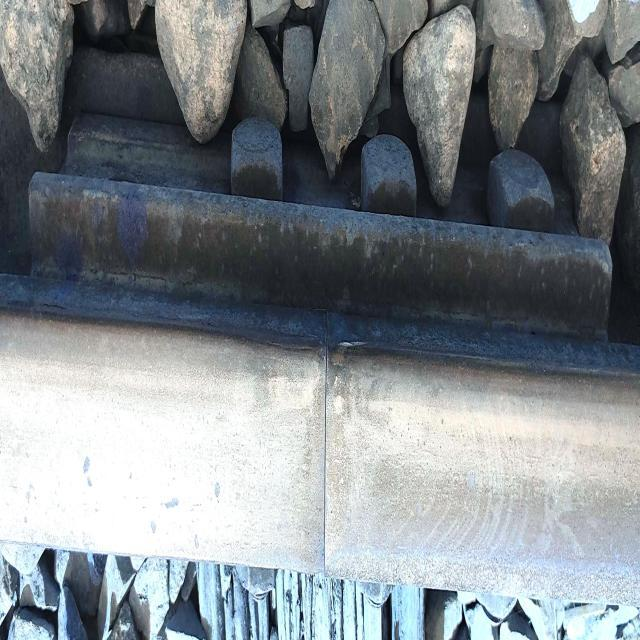Defective Joint: (28, 101, 612, 329)
